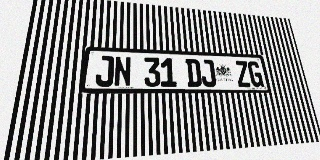1: (160, 58, 177, 87)
3: (144, 57, 161, 87)
D: (185, 59, 202, 87)
G: (247, 61, 264, 87)
J: (95, 55, 114, 87), (200, 59, 217, 87)
N: (114, 56, 131, 87)
Z: (234, 61, 251, 87)
